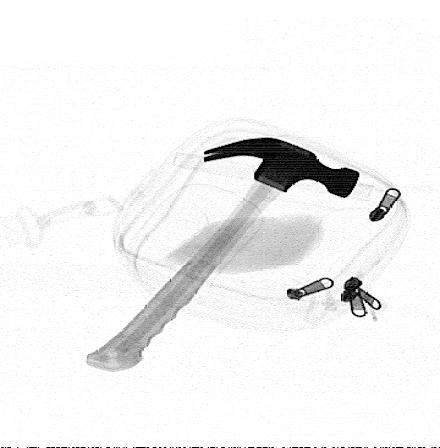Hammer: (86, 136, 363, 373)
